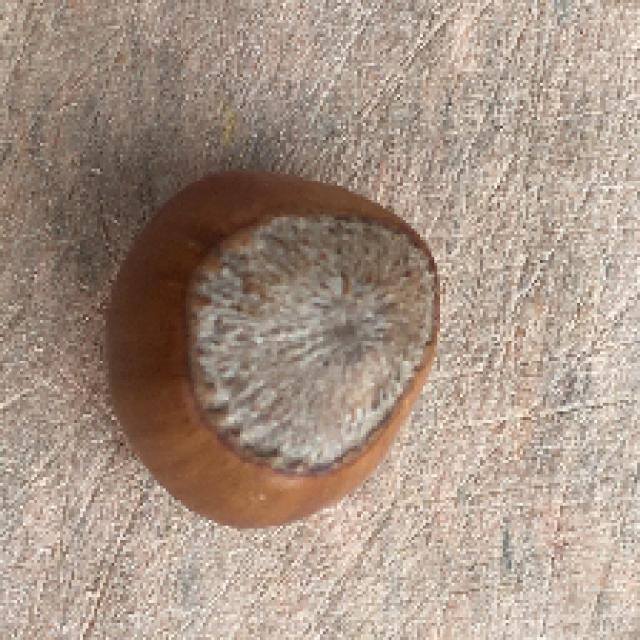qualityHazelnut: (100, 170, 448, 534)
